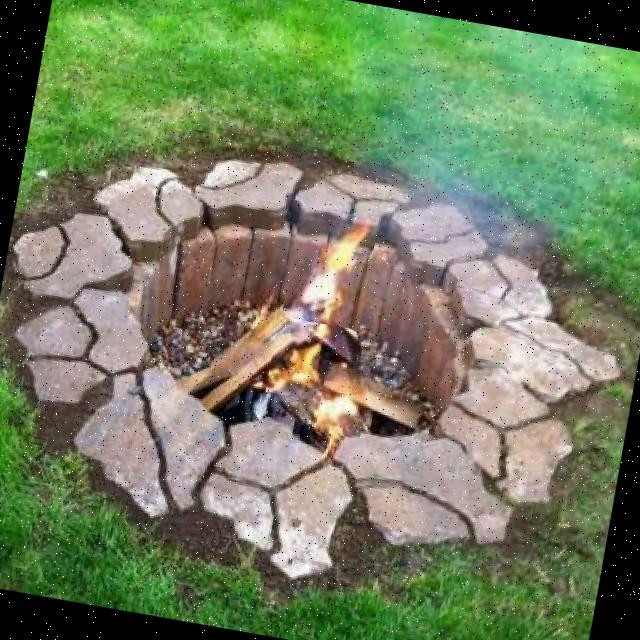fire: (281, 206, 378, 330), (264, 332, 322, 400), (315, 379, 368, 438)
